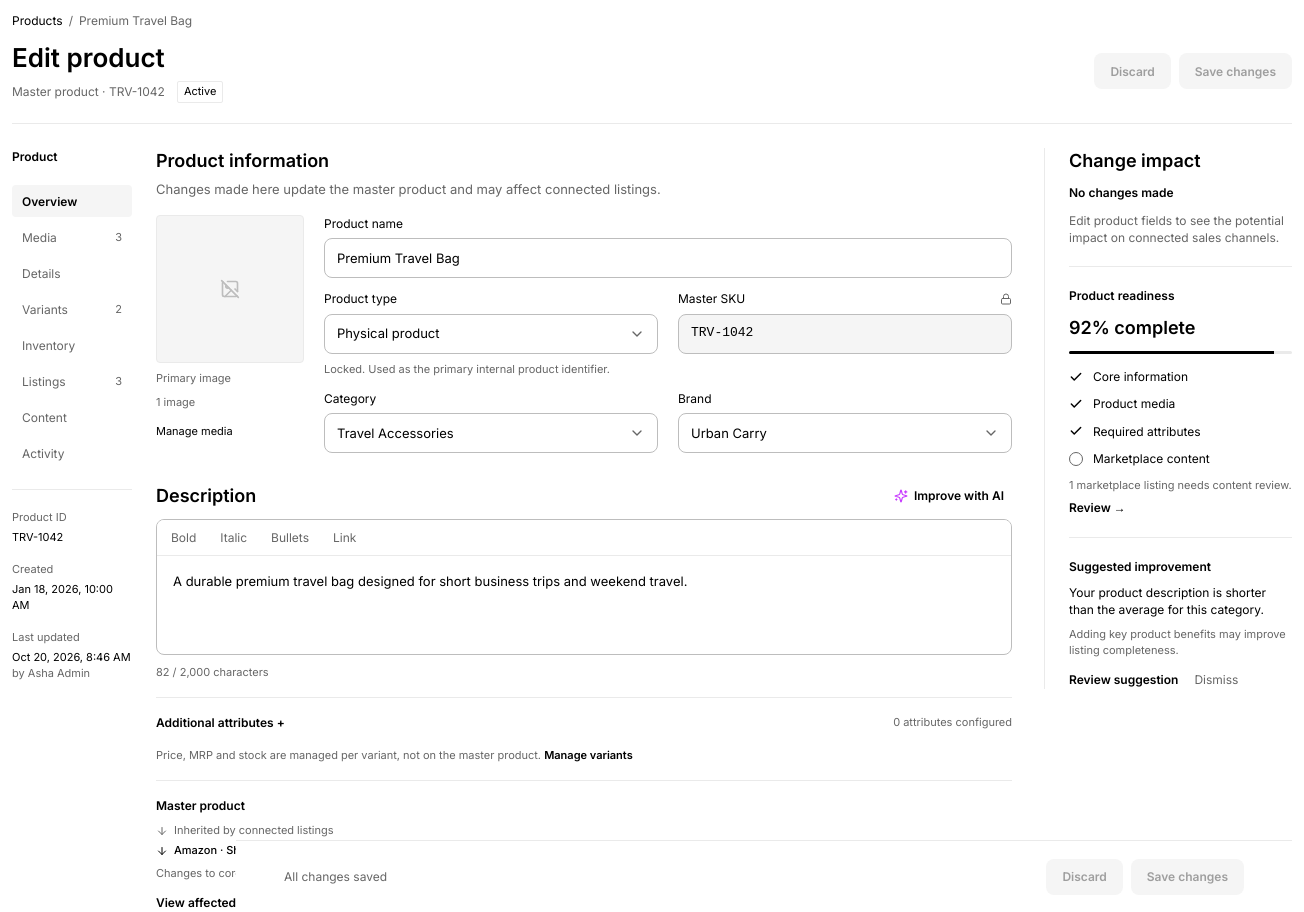
Test case: EditProductPage › loads the editor from the API: fields, locked SKU, meta, nav counts, readiness, insight, attributes
Expected: the heading "Edit product" is shown, [12,39,165,77]
Expected: the field labelled "Product name" holds "Premium Travel Bag", [337,249,999,268]
Step 1. Click the button "Additional attributes +" → (220, 723), box [156,714,285,732]
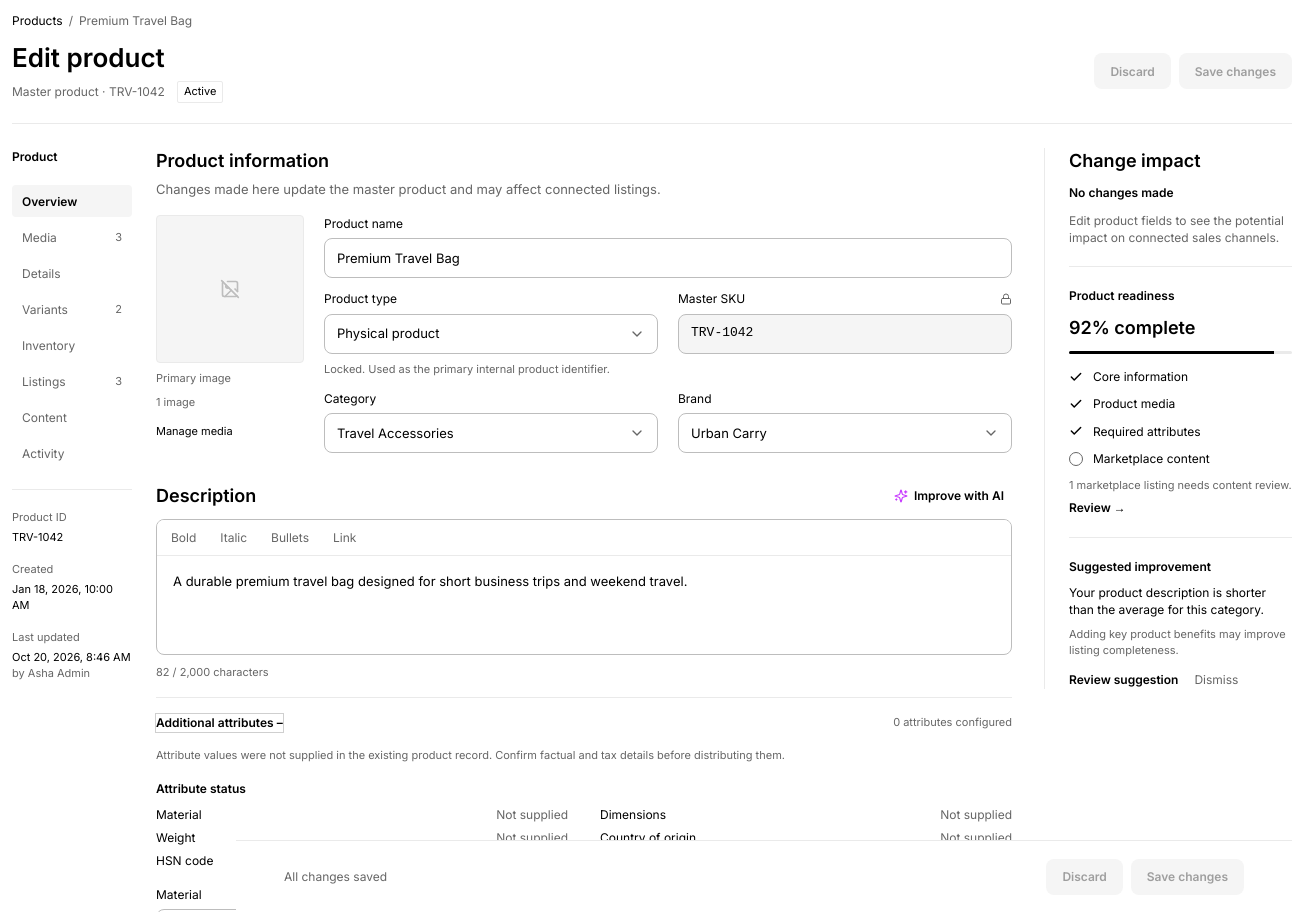
Result: the text "Attribute values were not supplied in the existing product record" is shown at [156,748,785,762]
